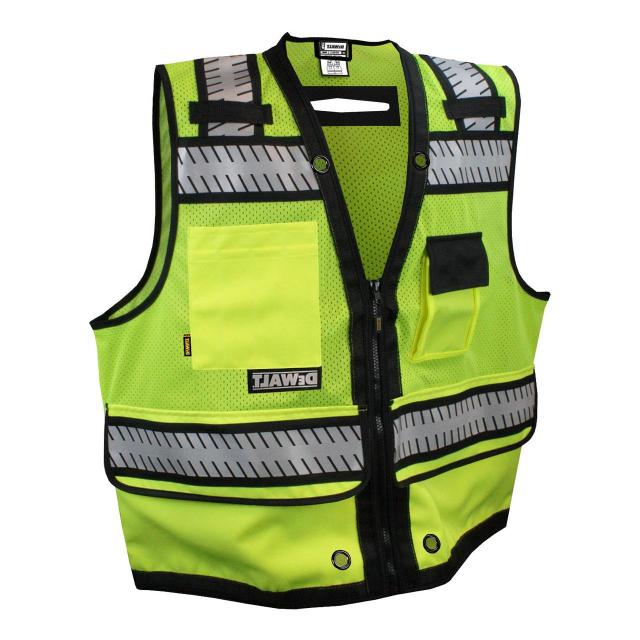Reflective-Jacket: (62, 22, 564, 618)
